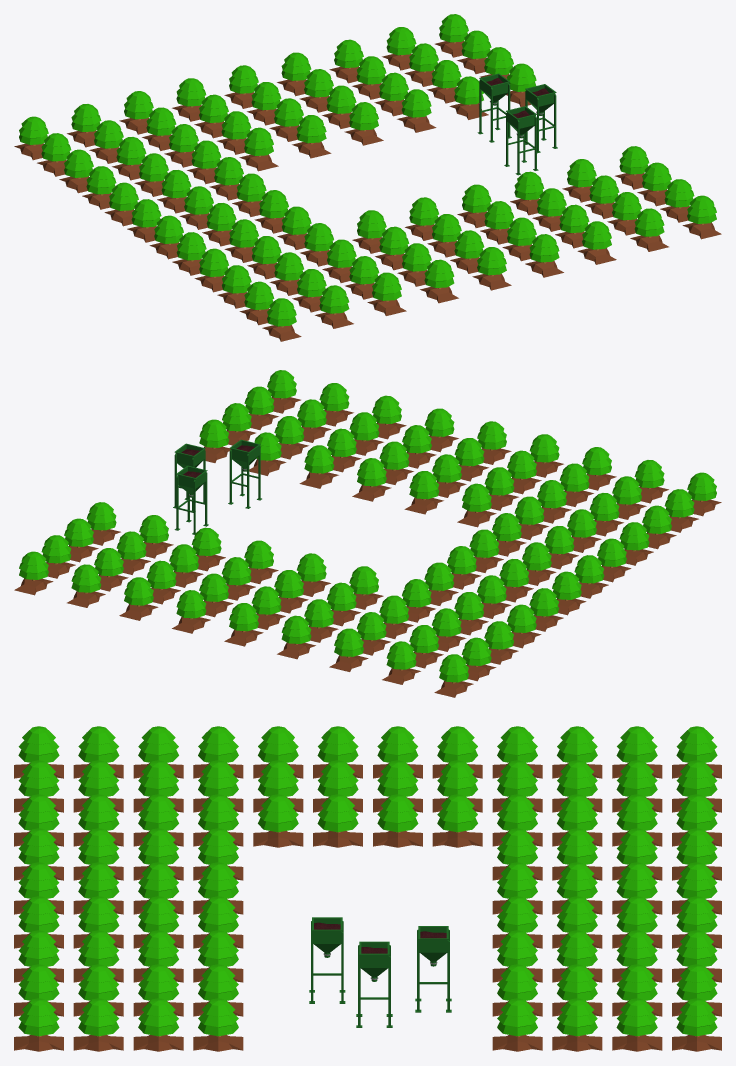
File: harvest_tree.glb
3 views of the same model, one above another, from view 1: azimuth 30°, elevation 25°; view 2: azimuth 150°, elevation 25°; view 3: azimuth 270°, elevation 25° (orthographic). The views are drawn at different scales.
Parts seen in each view (by area): view 1: Sphere.001; view 2: Sphere.001; view 3: Sphere.001.
Boxes of the visible parts, left/top/right/bottom form: Sphere.001: left=14, top=14, right=721, bottom=341; Sphere.001: left=14, top=370, right=721, bottom=697; Sphere.001: left=14, top=726, right=721, bottom=1051.
Bounding box in the file's own units: 2.83 × 0.3345 × 2.93.
7 materials, 1 textured.
